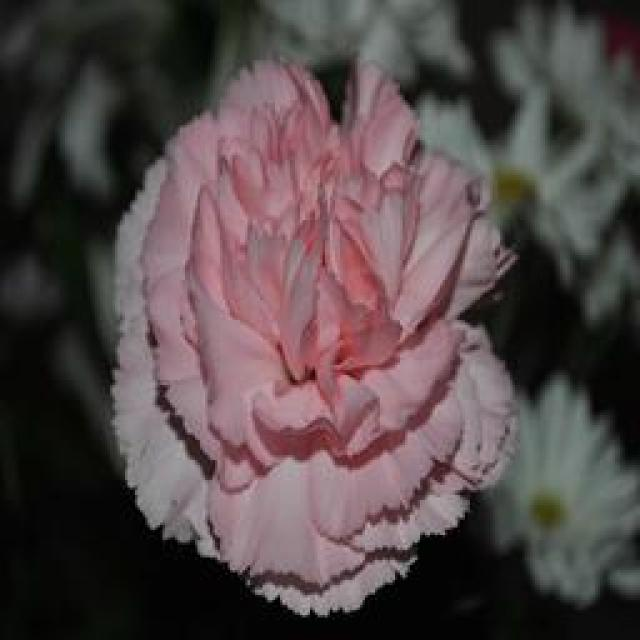carnation: (98, 71, 532, 623)
